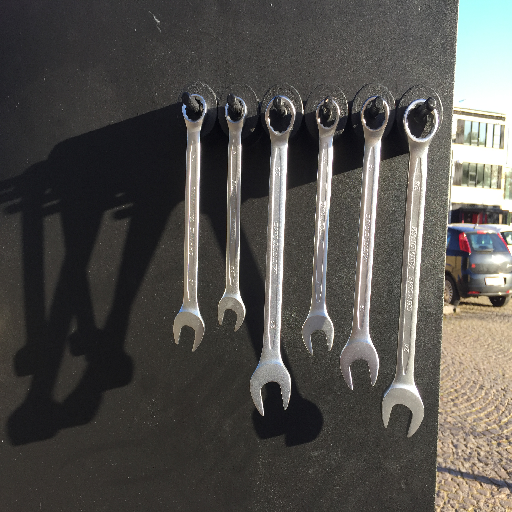bottom: (380, 378, 426, 438), (248, 360, 293, 418), (338, 335, 380, 393), (170, 307, 207, 353), (301, 309, 335, 356), (215, 291, 247, 334)
top: (401, 98, 441, 144), (263, 94, 297, 137), (359, 96, 391, 136), (180, 91, 208, 127), (314, 97, 342, 133), (222, 95, 250, 127)
